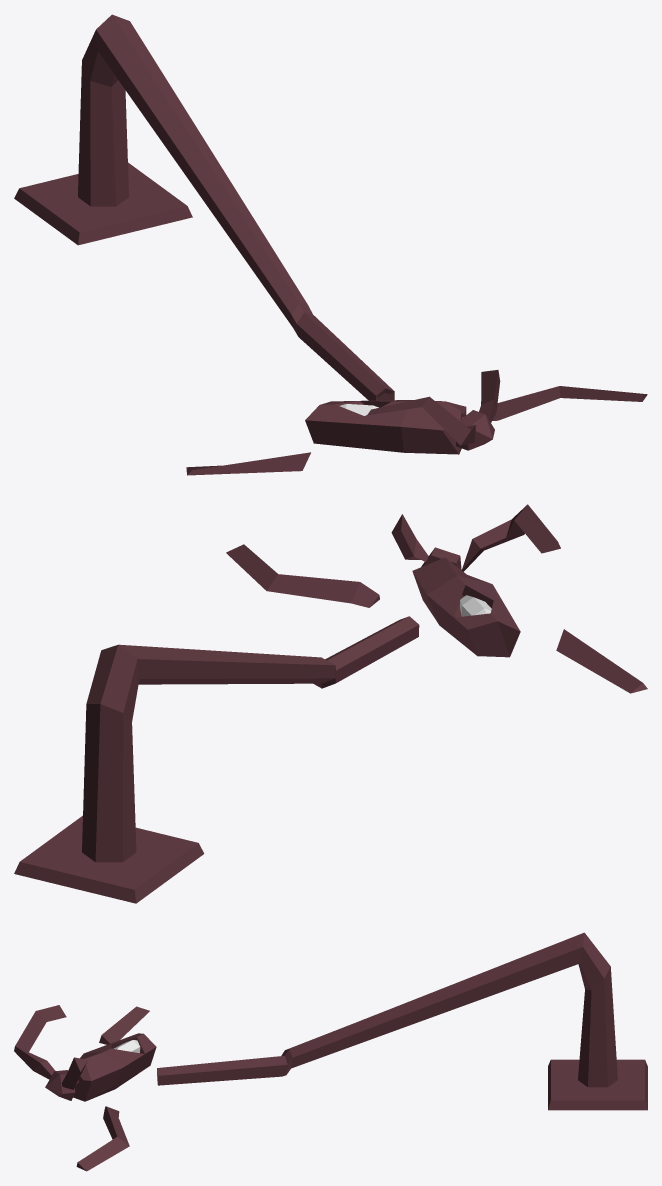
File: apocalypse-windmill-apocalypse-a.glb
3 renders of one model, top to bottom at view 1: azimuth 30°, elevation 25°; view 2: azimuth 150°, elevation 25°; view 3: azimuth 270°, elevation 25°, orthographic. The views are drawn at different scales.
Parts seen in each view (by area): view 1: windmill-apocalypse-a; view 2: windmill-apocalypse-a; view 3: windmill-apocalypse-a.
Part boxes in pixels (x1,y1,x2,y2): windmill-apocalypse-a: [14, 14, 647, 475]; windmill-apocalypse-a: [14, 504, 647, 903]; windmill-apocalypse-a: [14, 932, 647, 1171].
Bounding box in the file's own units: 9.33 × 4.19 × 15.29.
